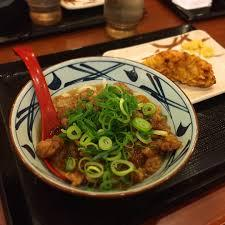niku: (10, 44, 201, 208)
